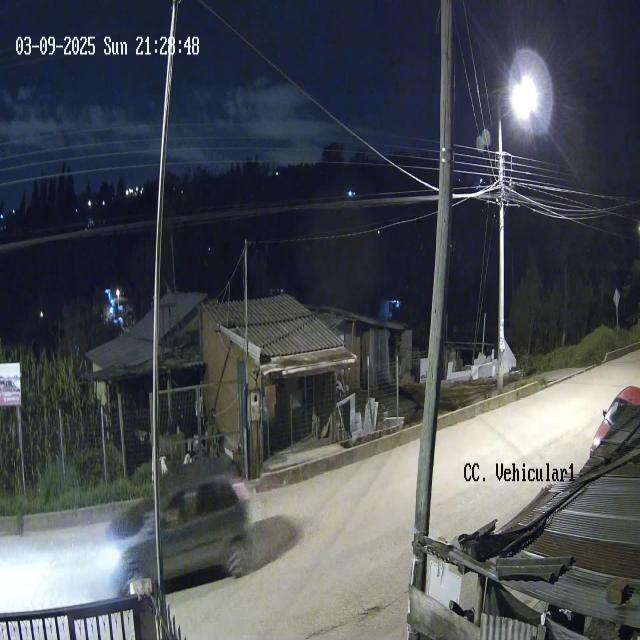SED: (106, 457, 254, 611)
